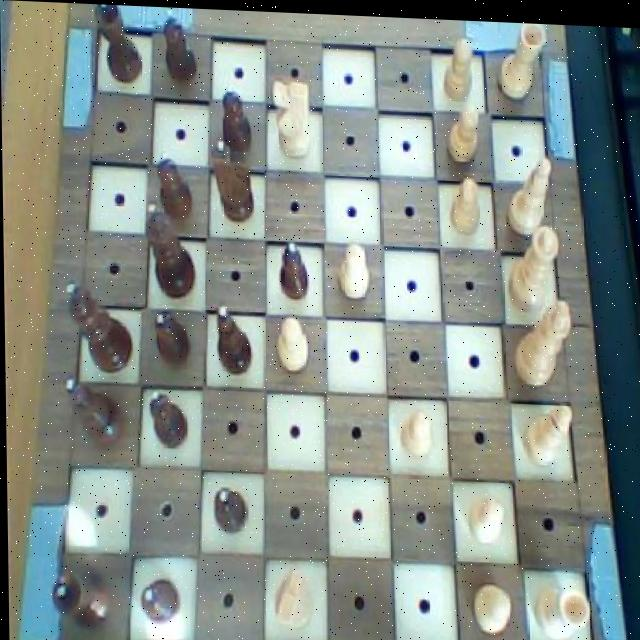bishop: (210, 300, 253, 381)
black-bishop: (61, 279, 134, 373)
black-king: (206, 135, 256, 223)
black-knight: (58, 374, 124, 449), (160, 7, 199, 87), (145, 305, 194, 368), (152, 148, 195, 219), (146, 383, 188, 452), (216, 80, 251, 153), (134, 570, 182, 623), (275, 231, 310, 300), (209, 481, 249, 537)
black-pawn: (144, 197, 199, 298)
black-queen: (91, 3, 145, 87), (51, 563, 111, 627)
black-rook: (503, 145, 558, 238), (518, 393, 576, 471)
white-bishop: (508, 293, 575, 394)
white-king: (270, 74, 318, 160), (265, 559, 317, 633)
white-knight: (466, 570, 513, 639), (461, 483, 509, 546), (437, 29, 476, 100), (446, 168, 486, 237), (446, 100, 484, 165), (335, 236, 371, 304), (396, 401, 436, 461), (276, 316, 312, 372)
white-pawn: (502, 217, 560, 312)
white-queen: (492, 17, 549, 104), (528, 575, 594, 640)
